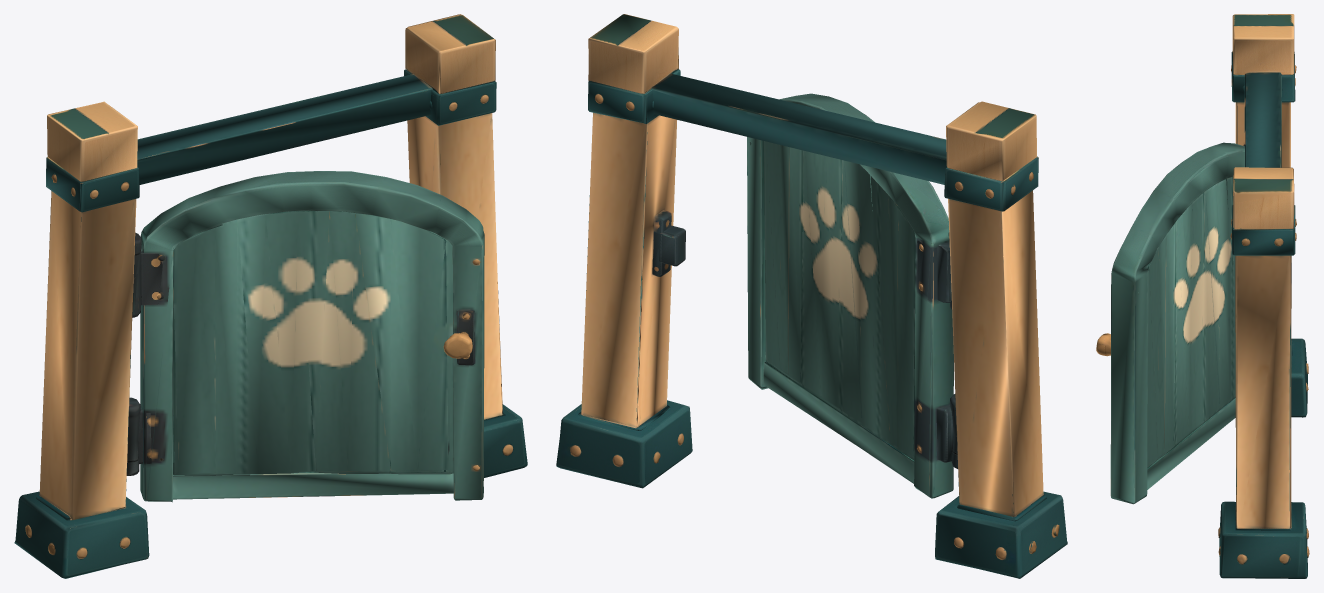
Rendered from park-tennis-gate.glb.
3 views of the same model, side by side, from view 1: azimuth 30°, elevation 25°; view 2: azimuth 150°, elevation 25°; view 3: azimuth 270°, elevation 25° (orthographic). The views are drawn at different scales.
Parts seen in each view (by area): view 1: Mesh_0; view 2: Mesh_0; view 3: Mesh_0.
Boxes of the visible parts, left/top/right/bottom form: Mesh_0: left=14, top=14, right=527, bottom=578; Mesh_0: left=556, top=14, right=1067, bottom=578; Mesh_0: left=1096, top=14, right=1309, bottom=578.
Bounding box in the file's own units: 1.13 × 1 × 0.5099.
1 material, 1 textured.
